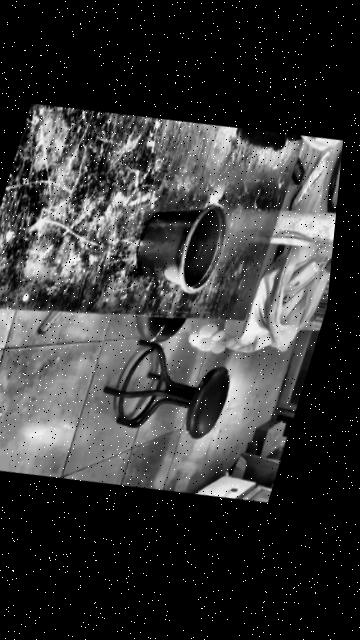pot: (136, 204, 226, 292)
